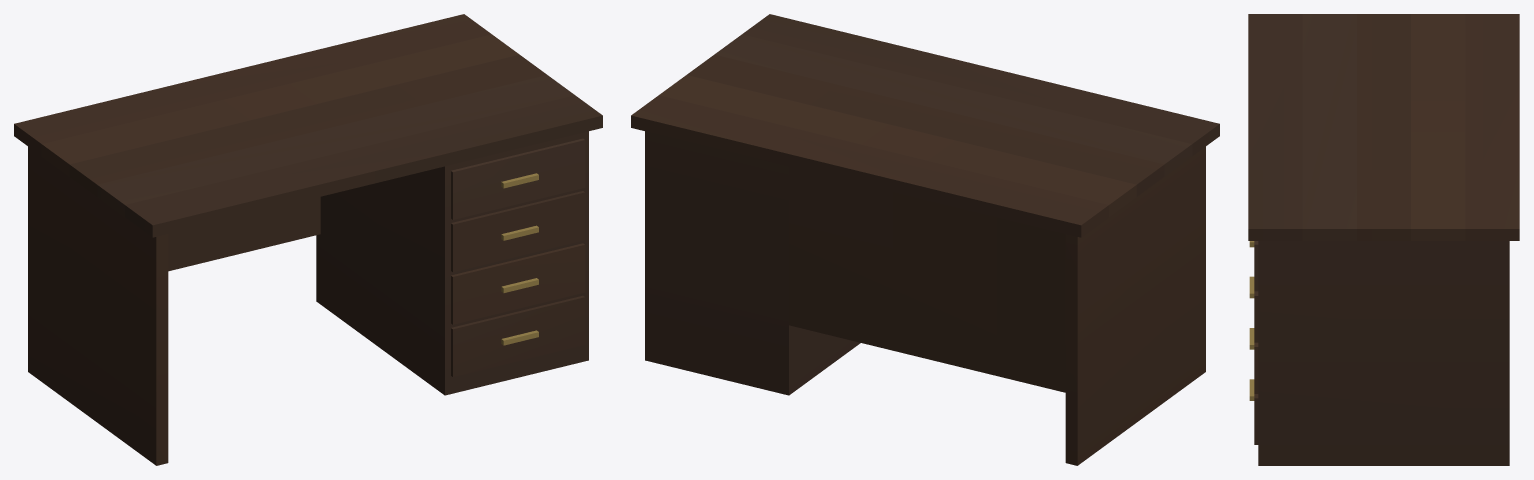
Rendered from table.desk.dark.glb.
3 views of the same model, side by side, from view 1: azimuth 30°, elevation 25°; view 2: azimuth 150°, elevation 25°; view 3: azimuth 270°, elevation 25° (orthographic). The views are drawn at different scales.
Parts seen in each view (by area): view 1: table_desk_dark; view 2: table_desk_dark; view 3: table_desk_dark.
Boxes of the visible parts, x1,y1,x2,y2 form: table_desk_dark: (14, 14, 602, 465); table_desk_dark: (631, 14, 1219, 465); table_desk_dark: (1248, 14, 1519, 465).
Size of what is drawn, in the model's own units: 1.53 by 0.8 by 0.816.
